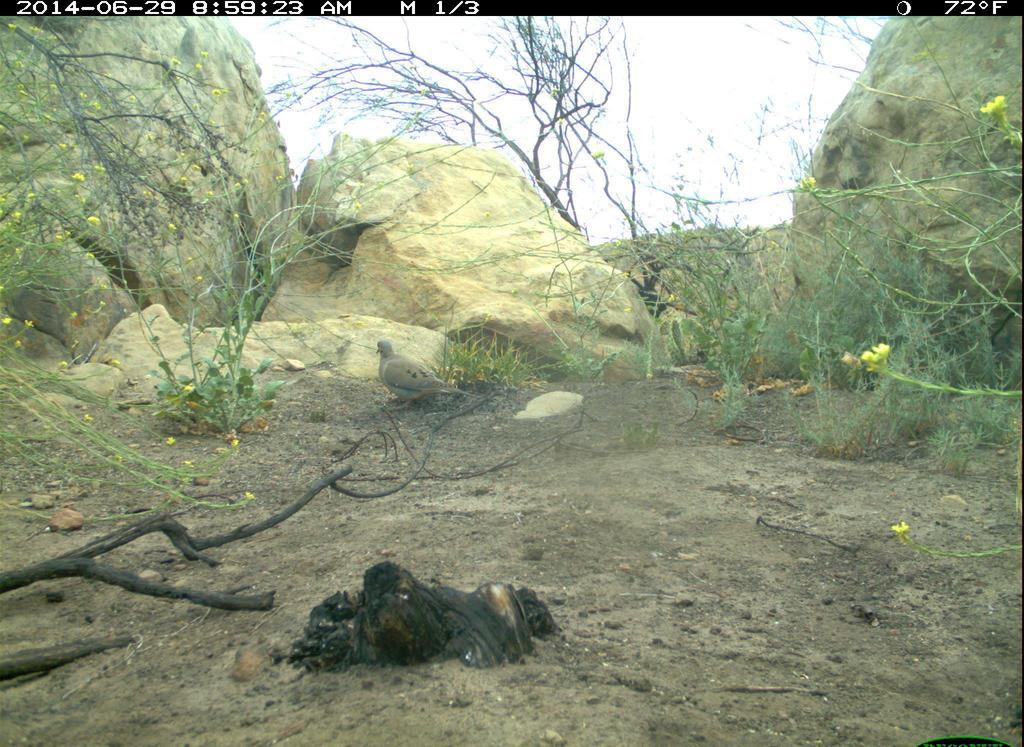bird: (360, 329, 488, 429)
